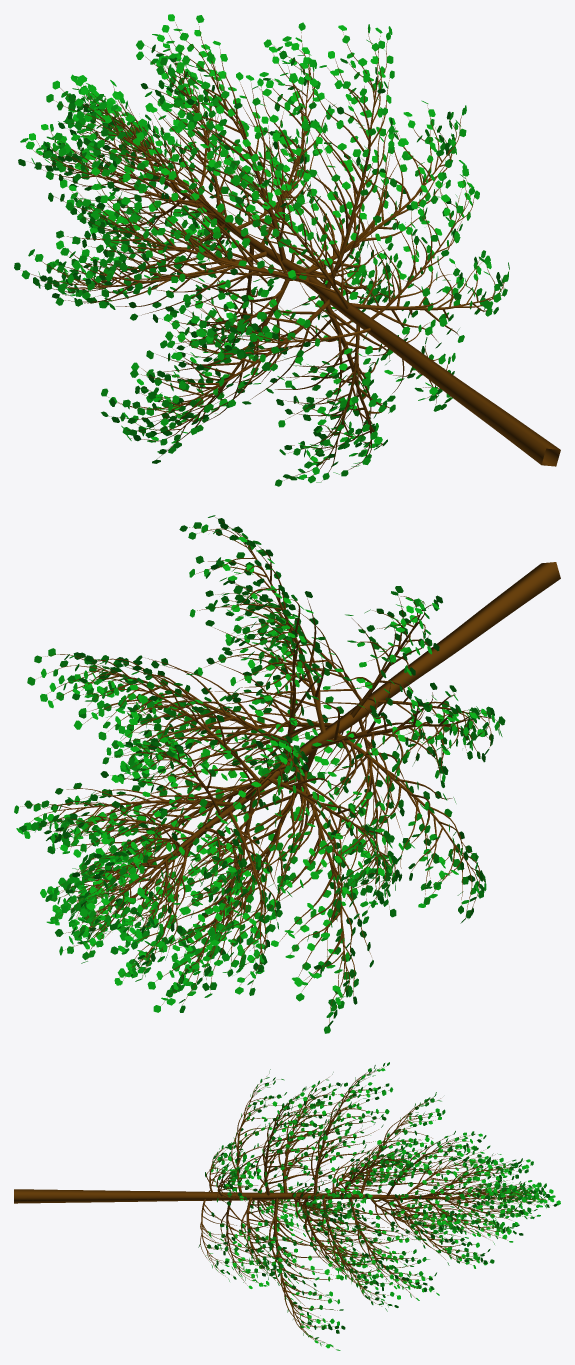
The model's file is arbol.fbx.
3 views of the same model, one above another, from view 1: azimuth 30°, elevation 25°; view 2: azimuth 150°, elevation 25°; view 3: azimuth 270°, elevation 25° (orthographic). The views are drawn at different scales.
Parts seen in each view (by area): view 1: leaves.002, tree.002; view 2: leaves.002, tree.002; view 3: tree.002, leaves.002.
Boxes of the visible parts, left/top/right/bottom form: leaves.002: left=14, top=14, right=509, bottom=486; tree.002: left=25, top=22, right=560, bottom=481; leaves.002: left=14, top=515, right=505, bottom=1033; tree.002: left=20, top=516, right=560, bottom=1022; tree.002: left=14, top=1066, right=550, bottom=1347; leaves.002: left=198, top=1062, right=560, bottom=1350.
Size of the model in its own units: 1156 by 607 by 593.
